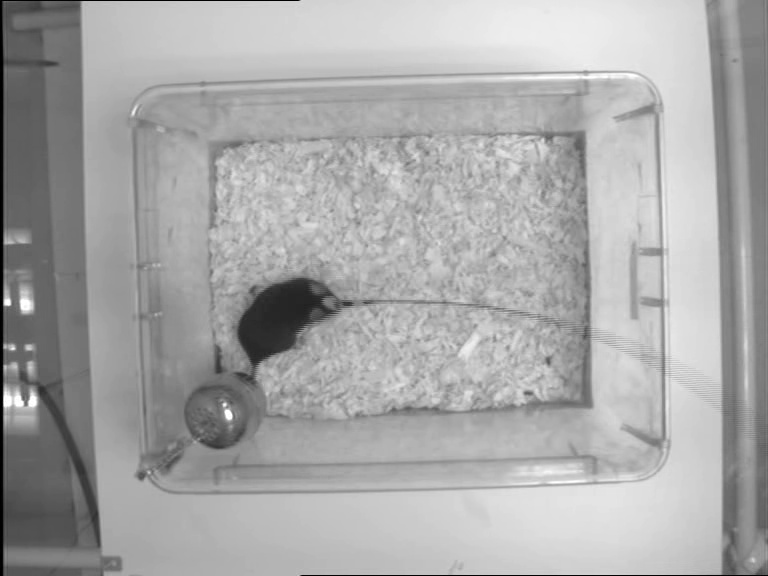mice: (235, 276, 346, 374)
